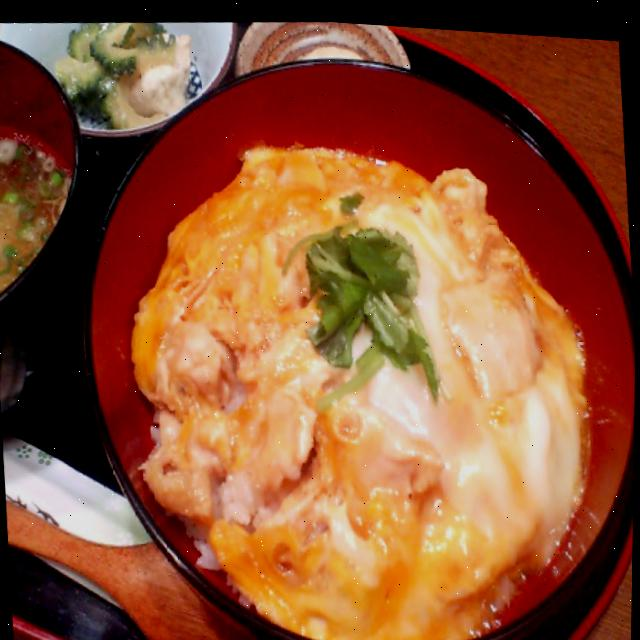米饭主食: (53, 12, 640, 640)
